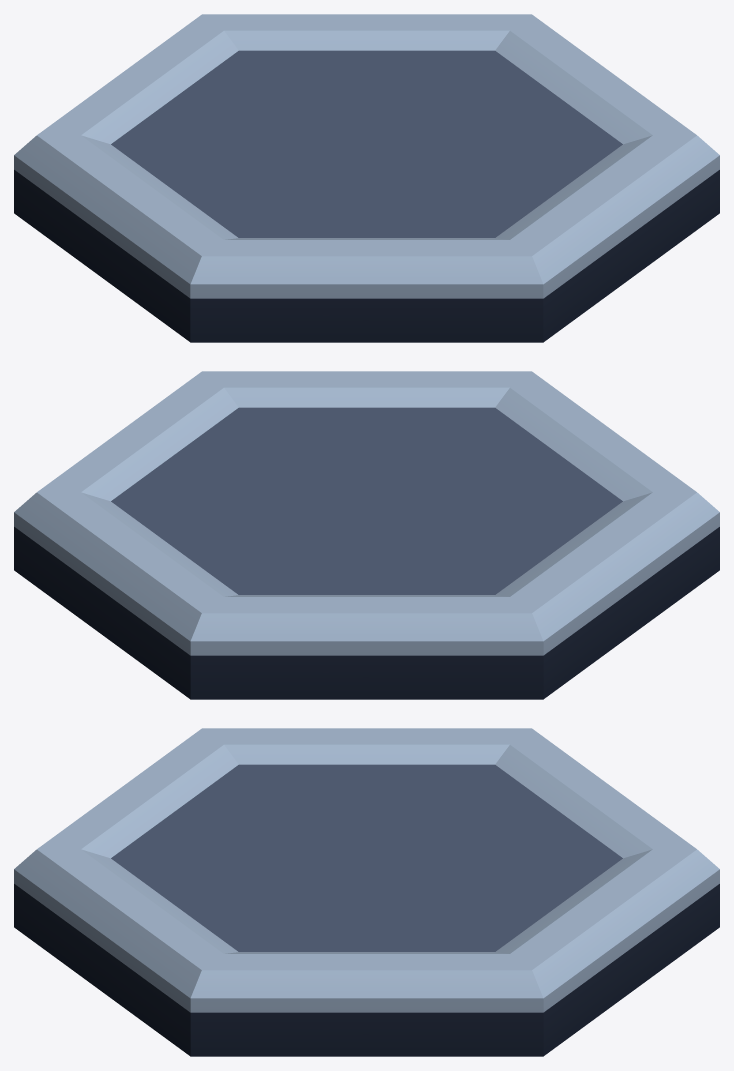
The model's file is Hexagon 12.FBX.
3 views of the same model, one above another, from view 1: azimuth 30°, elevation 25°; view 2: azimuth 150°, elevation 25°; view 3: azimuth 270°, elevation 25° (orthographic).
Parts seen in each view (by area): view 1: Hexagon 12; view 2: Hexagon 12; view 3: Hexagon 12.
Boxes of the visible parts, x1=… form: Hexagon 12: x1=14, y1=14, x2=719, y2=342; Hexagon 12: x1=14, y1=371, x2=719, y2=699; Hexagon 12: x1=14, y1=728, x2=719, y2=1056.
Bounding box in the file's own units: 280 × 39.42 × 323.
Materials: 1 (1 with a texture image).
